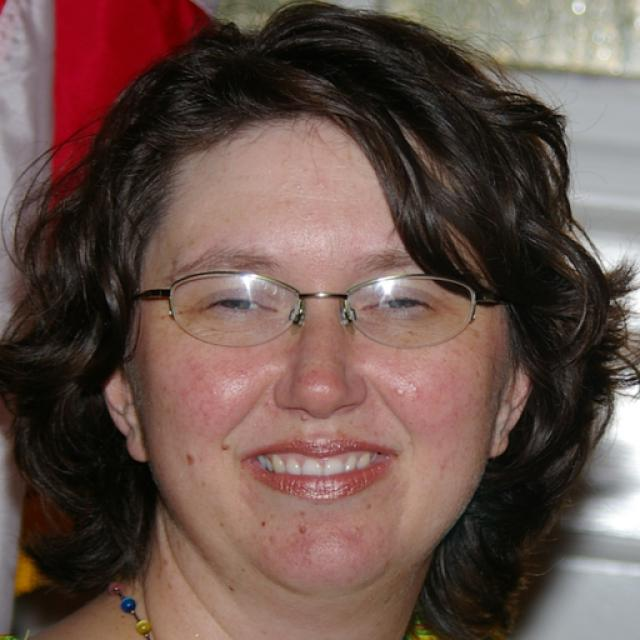Pigmentation: (177, 330, 304, 434), (269, 525, 389, 581), (271, 362, 364, 400)
